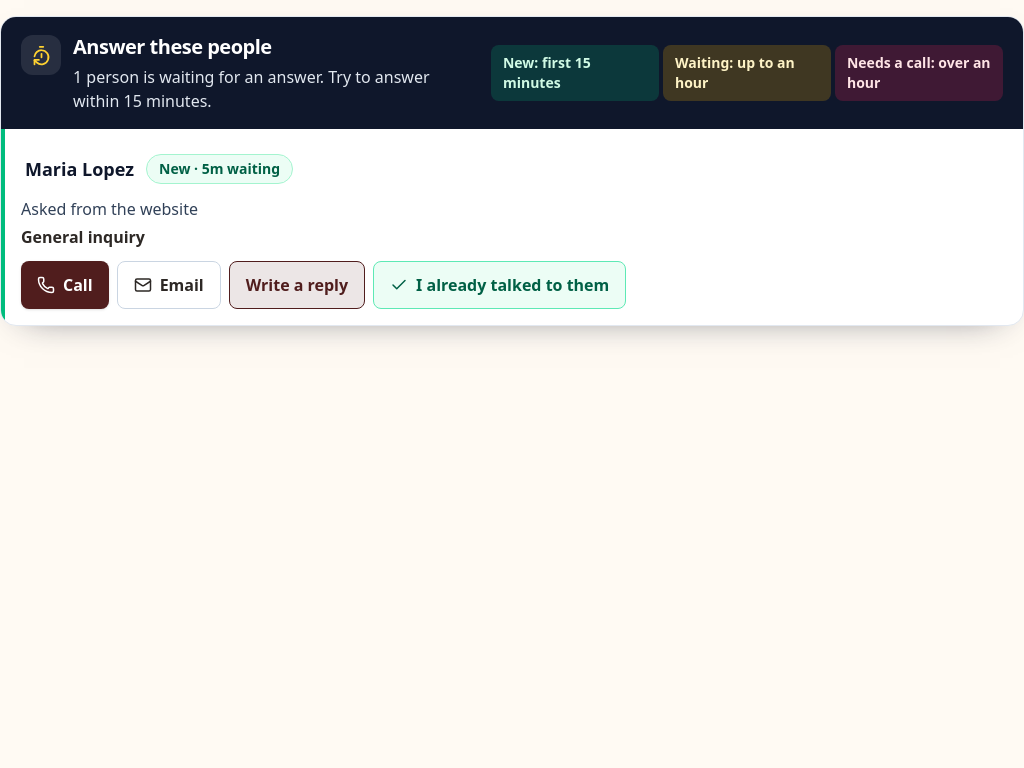
Test case: LeadResponseQueue › leaves the person waiting when the reply does not send
Click the button with aria-label "Write Maria Lopez a reply".
click(297, 285)  # box top-left (229, 261), bottom-right (365, 309)
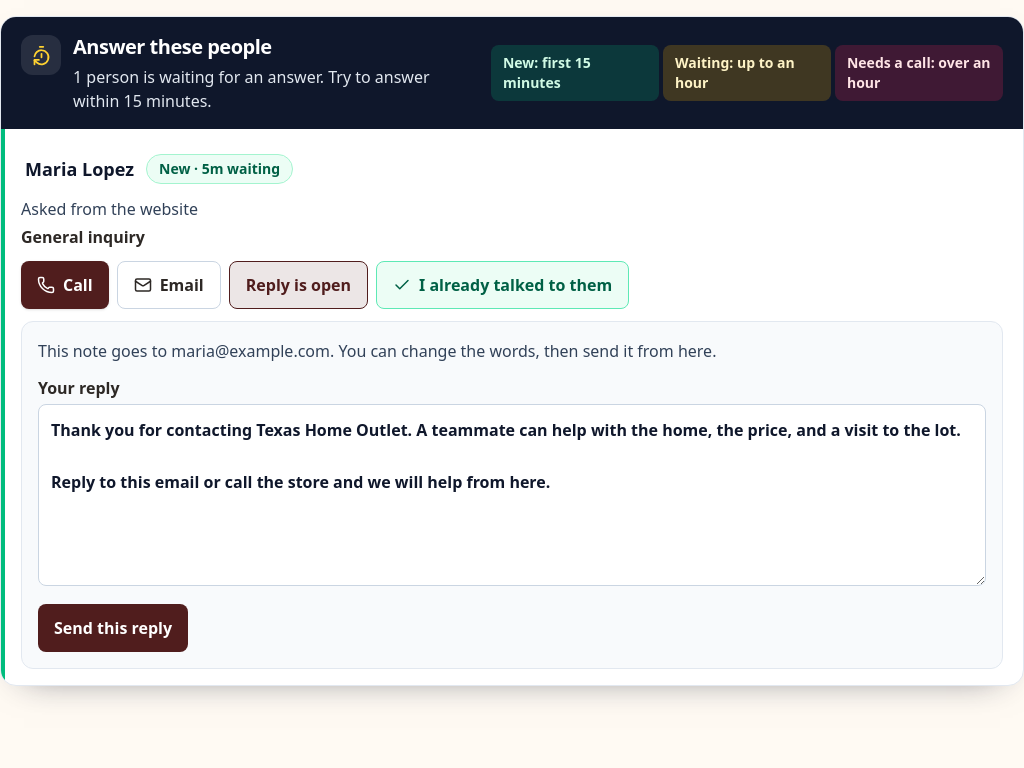
Click the button "Send this reply".
click(113, 628)  # box top-left (38, 604), bottom-right (188, 652)
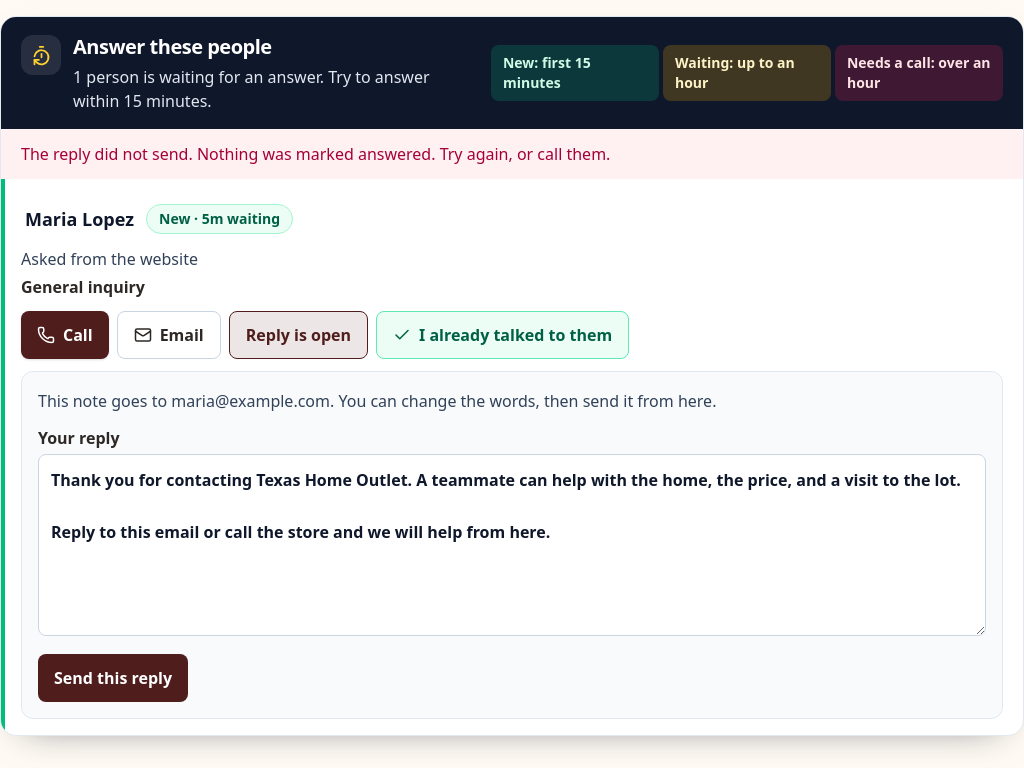
Expected: the message shows "did not send", top-left (21, 143), bottom-right (610, 165)
